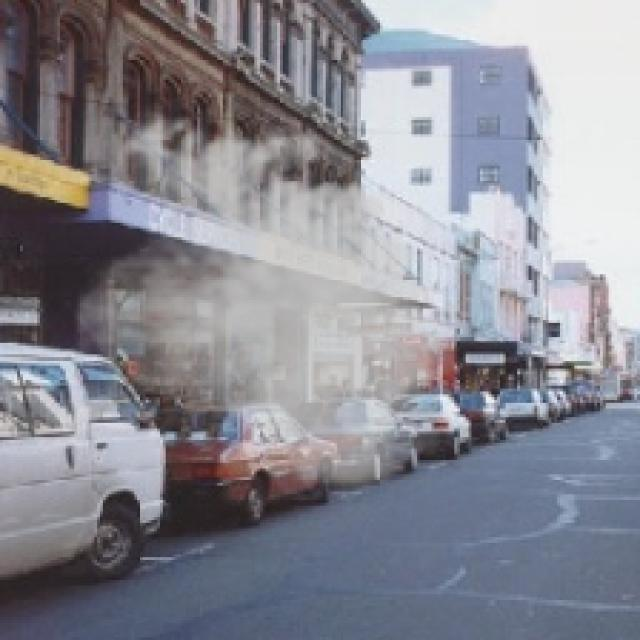smoke: (74, 103, 472, 497)
